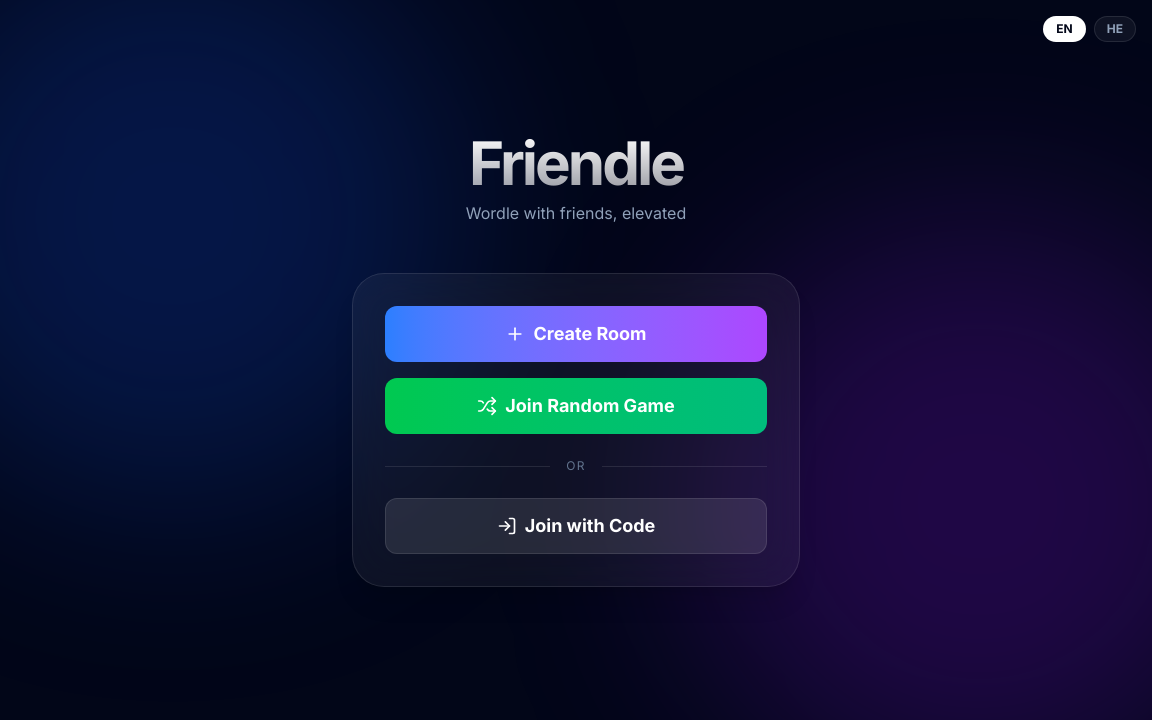
Home Page - New Flow › supports back button navigation
The width and height of the screenshot is (1152, 720).
Click the button "Create Room" at (576, 334), box x1=385 y1=306 x2=767 y2=362
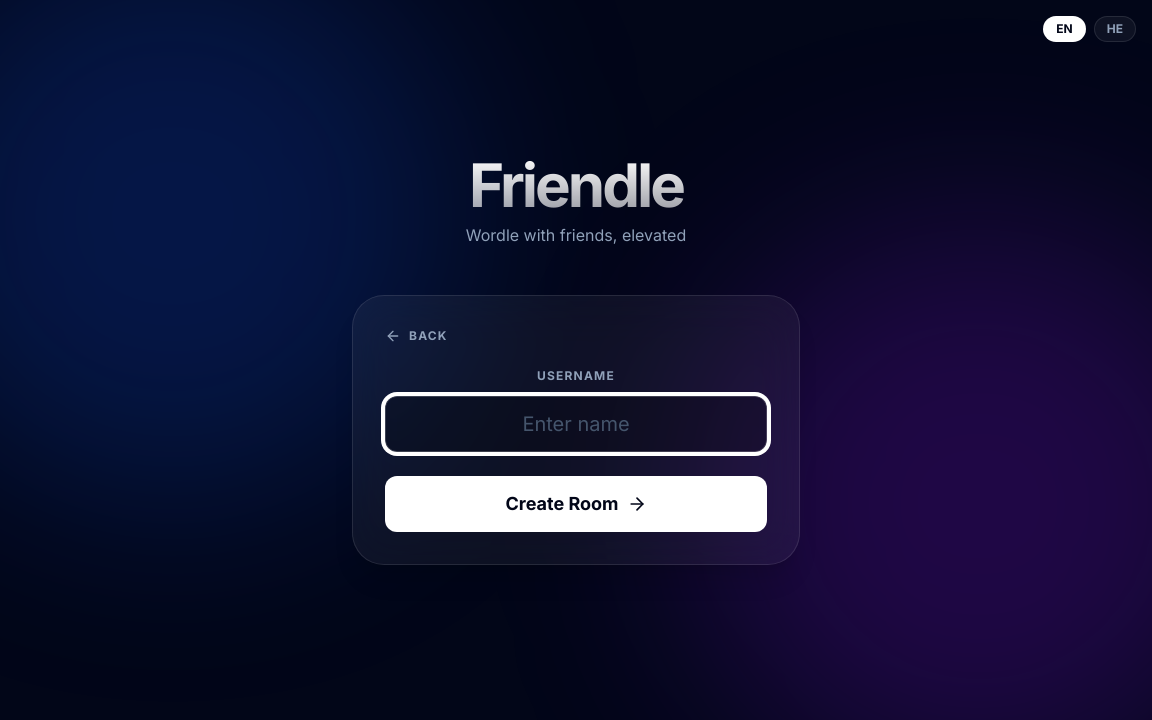
Now the field labelled "Username" is shown, box x1=385 y1=396 x2=767 y2=452
Click the button "Back" at (416, 336), box x1=385 y1=328 x2=448 y2=344
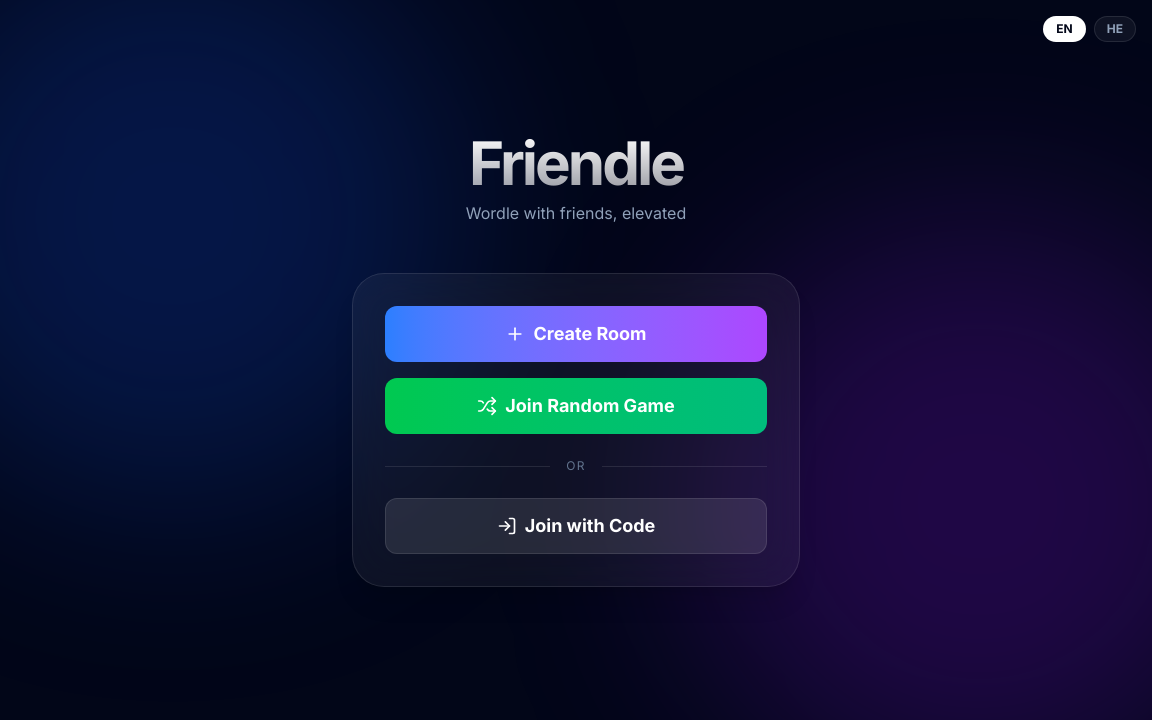
Expected: the button "Create Room" is shown, x1=385 y1=306 x2=767 y2=362
Click the button "Join with Code" at (576, 526), box x1=385 y1=498 x2=767 y2=554
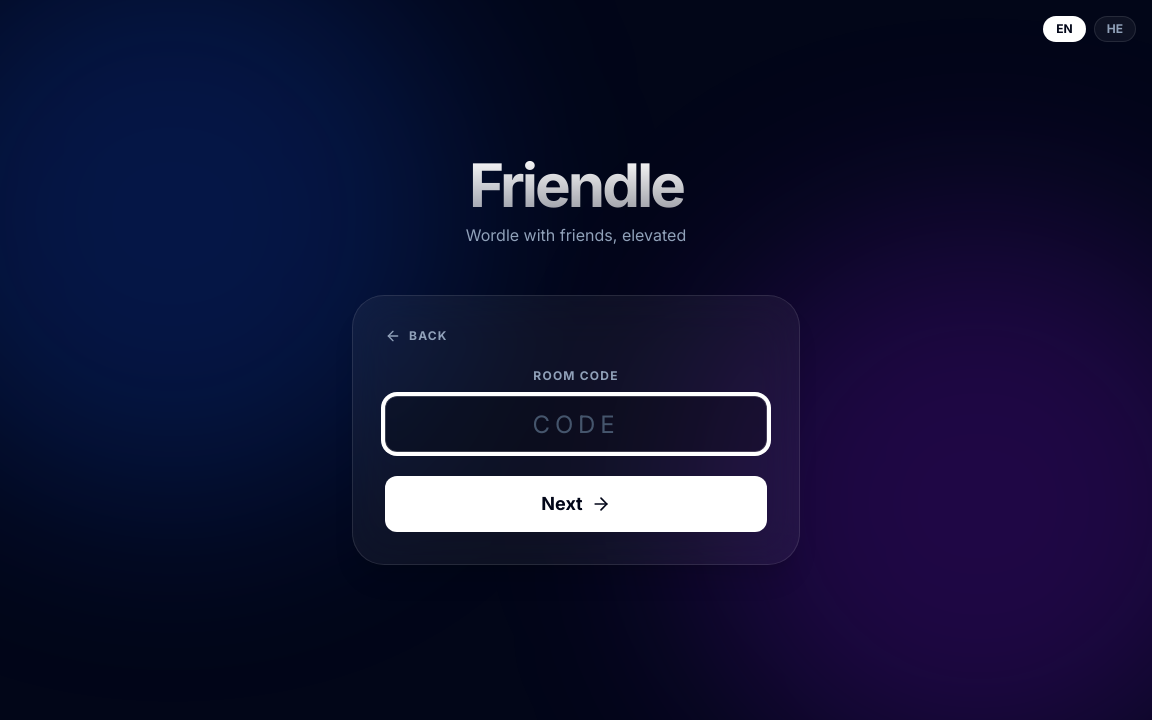
Now the field labelled "Room Code" is shown
Type "ABCDEF" into the field labelled "Room Code" at (576, 424), box x1=385 y1=396 x2=767 y2=452
Click the button "Next" at (576, 504), box x1=385 y1=476 x2=767 y2=532
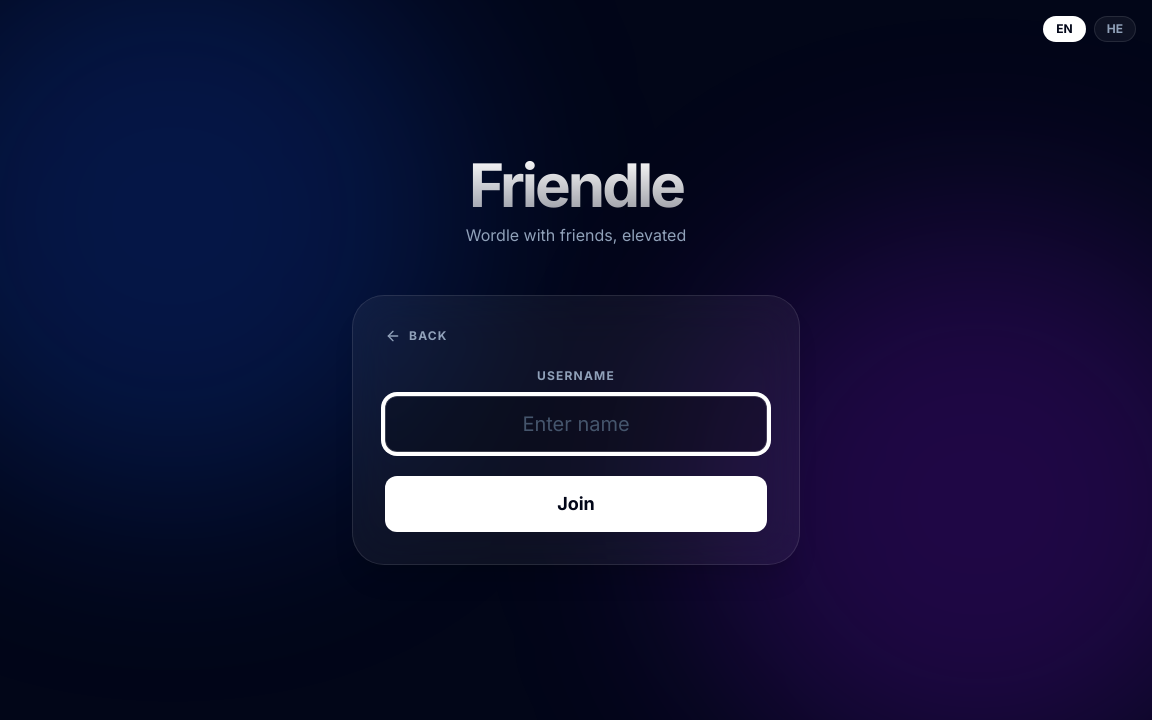
Now the field labelled "Username" is shown, box x1=385 y1=396 x2=767 y2=452
Click the button "Back" at (416, 336), box x1=385 y1=328 x2=448 y2=344
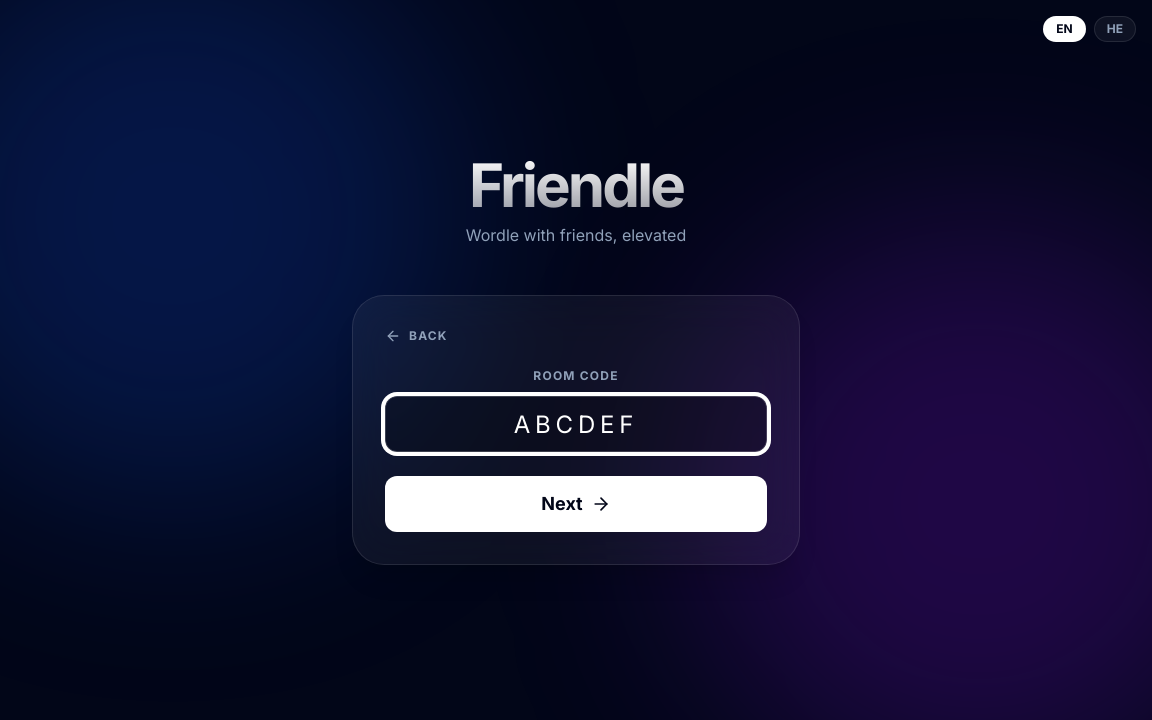
Now the field labelled "Room Code" is shown, box x1=385 y1=396 x2=767 y2=452
Click the button "Back" at (416, 336), box x1=385 y1=328 x2=448 y2=344
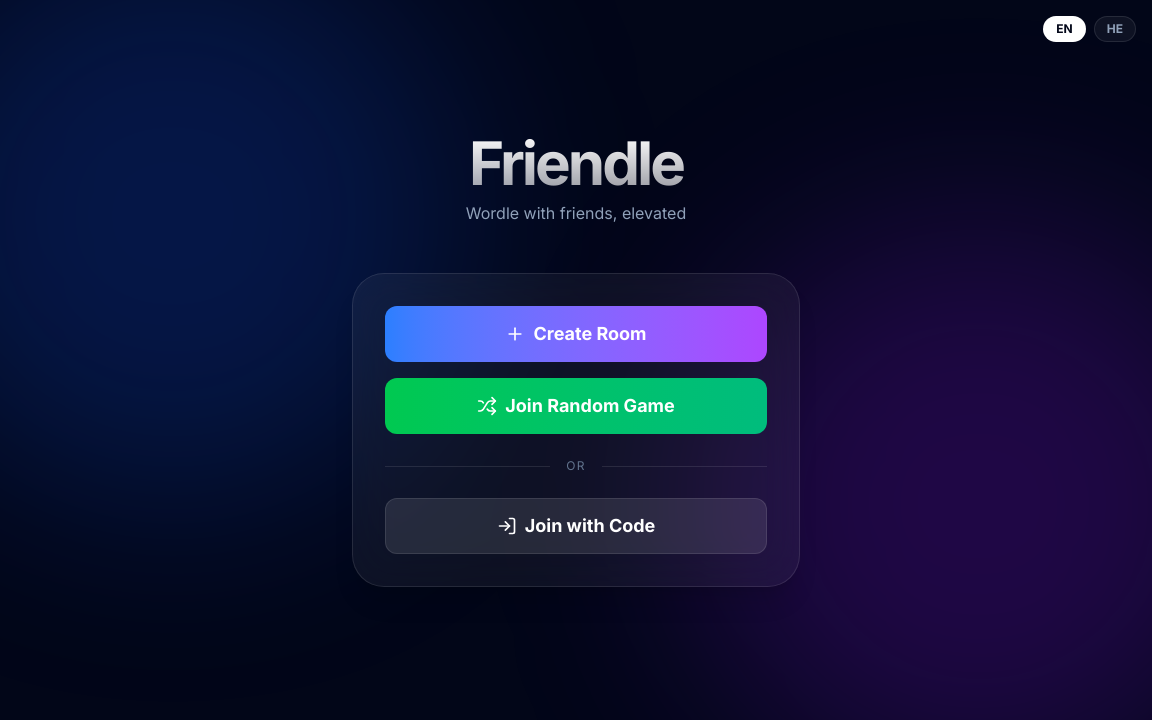
Now the button "Create Room" is shown, box x1=385 y1=306 x2=767 y2=362
